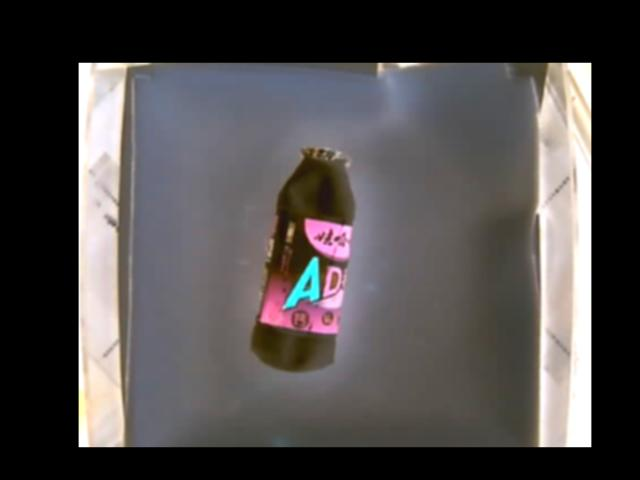Bottle: (249, 149, 357, 372)
